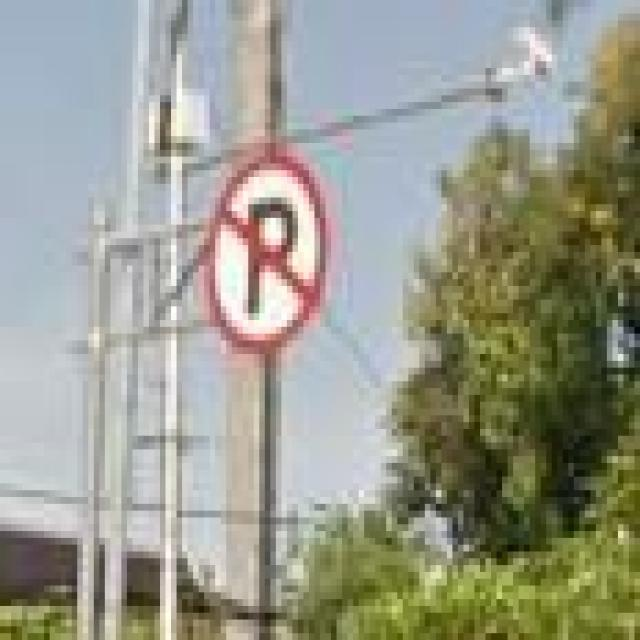traffic sign: (204, 163, 326, 360)
